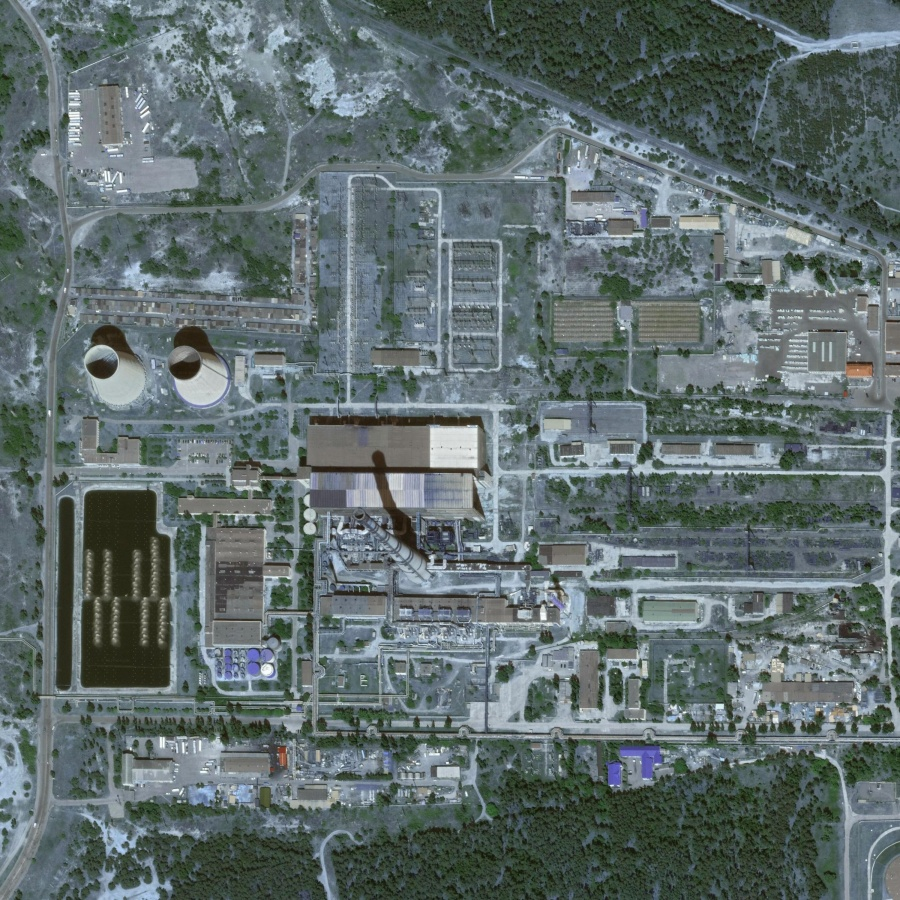PowerPlant: (45, 302, 498, 702)
